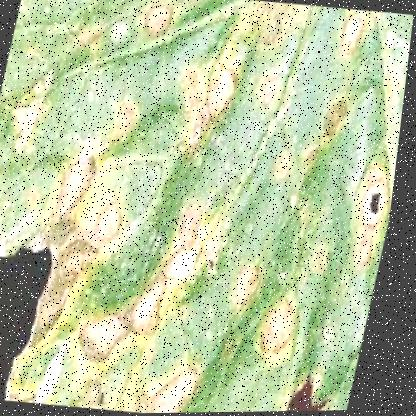Anthracnose: (0, 190, 375, 415), (17, 0, 315, 281), (263, 6, 414, 343)
